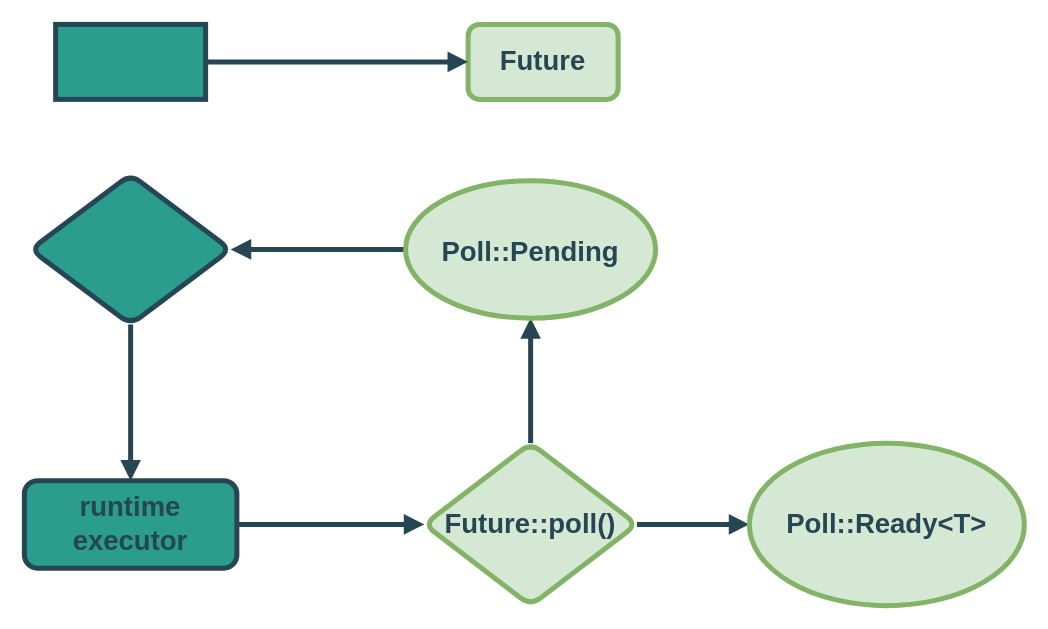
Some shapes in this 1048 by 629 pixel diagram are drawn without their labels. Each missing label, with the centre of its shape:
async fn: [130,61]
Wake::wake(): [130,248]
